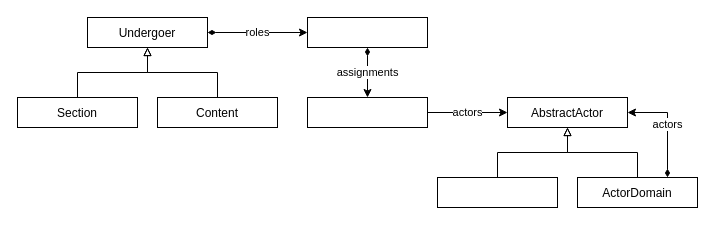
The diagram is 715 pixels wide and 225 high, and some of its shapes have lost their labels. The centre of each missing label's shape, as x and y in pixels:
"Actor" belongs at pixel 497 192.
"Role" belongs at pixel 367 32.
"RoleAssignment" belongs at pixel 367 112.
